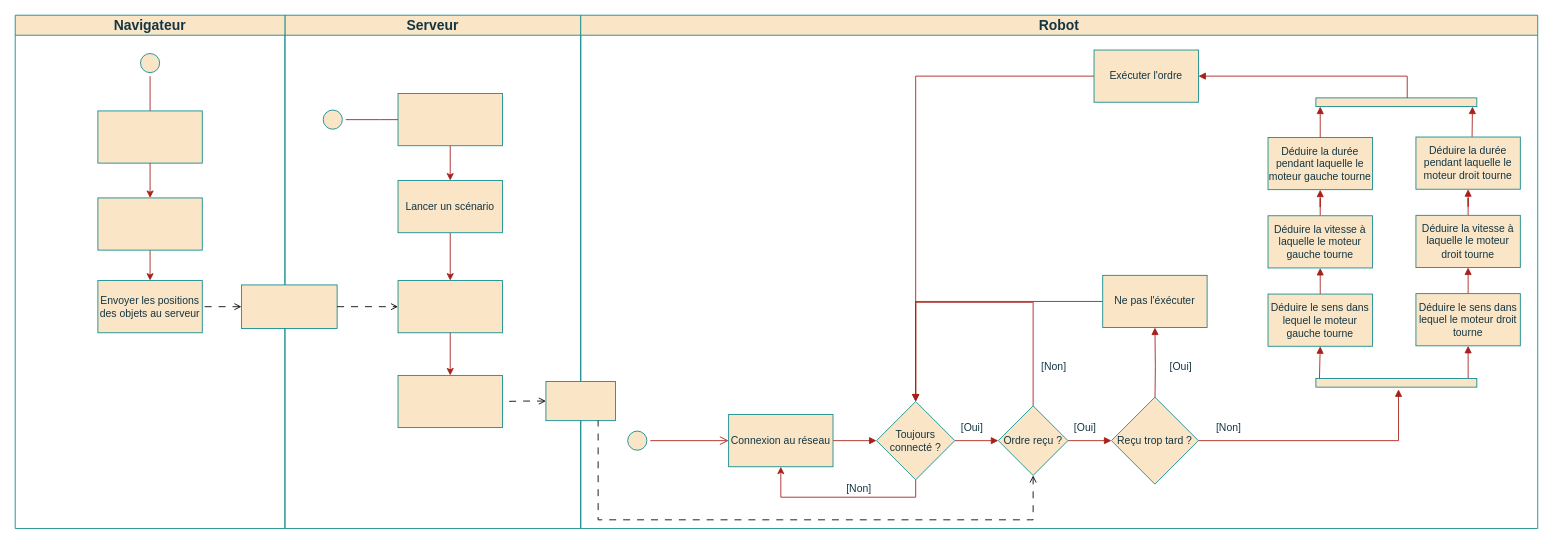
This 1553x544 diagram has some shape labels left out. Here are the shapes that lost their labels. From the top down, the centre of each, then its label:
At (149,136): "Récupérer les images de la caméra".
At (449,119): "Lancer le serveur".
At (149,223): "Dessiner les images de la caméra dans un canvas".
At (289,306): "Données".
At (449,306): "Traiter les données reçues".
At (449,401): "Envoyer les ordres du scénario au robot".
At (580,401): "Ordres".
